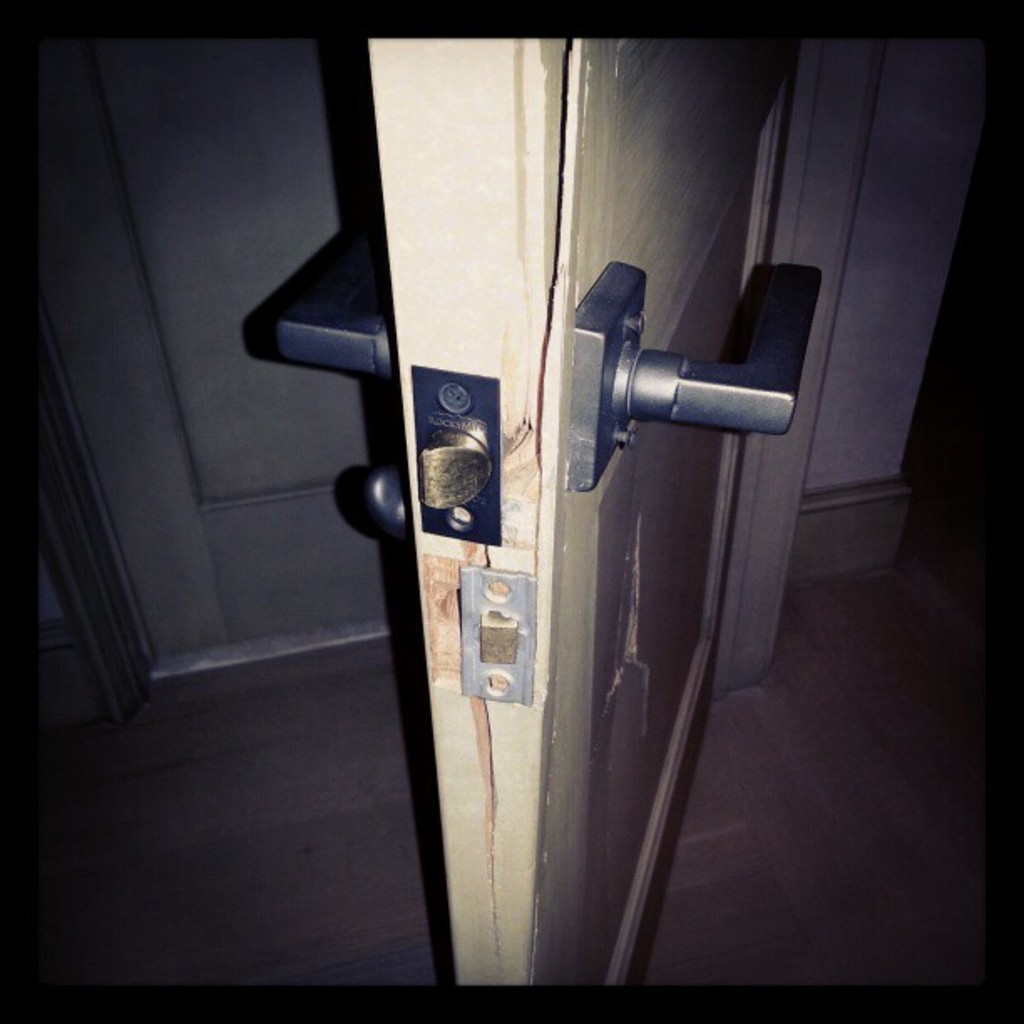door: (391, 34, 705, 959)
handle: (630, 226, 829, 481), (284, 245, 403, 405), (370, 458, 430, 553)
